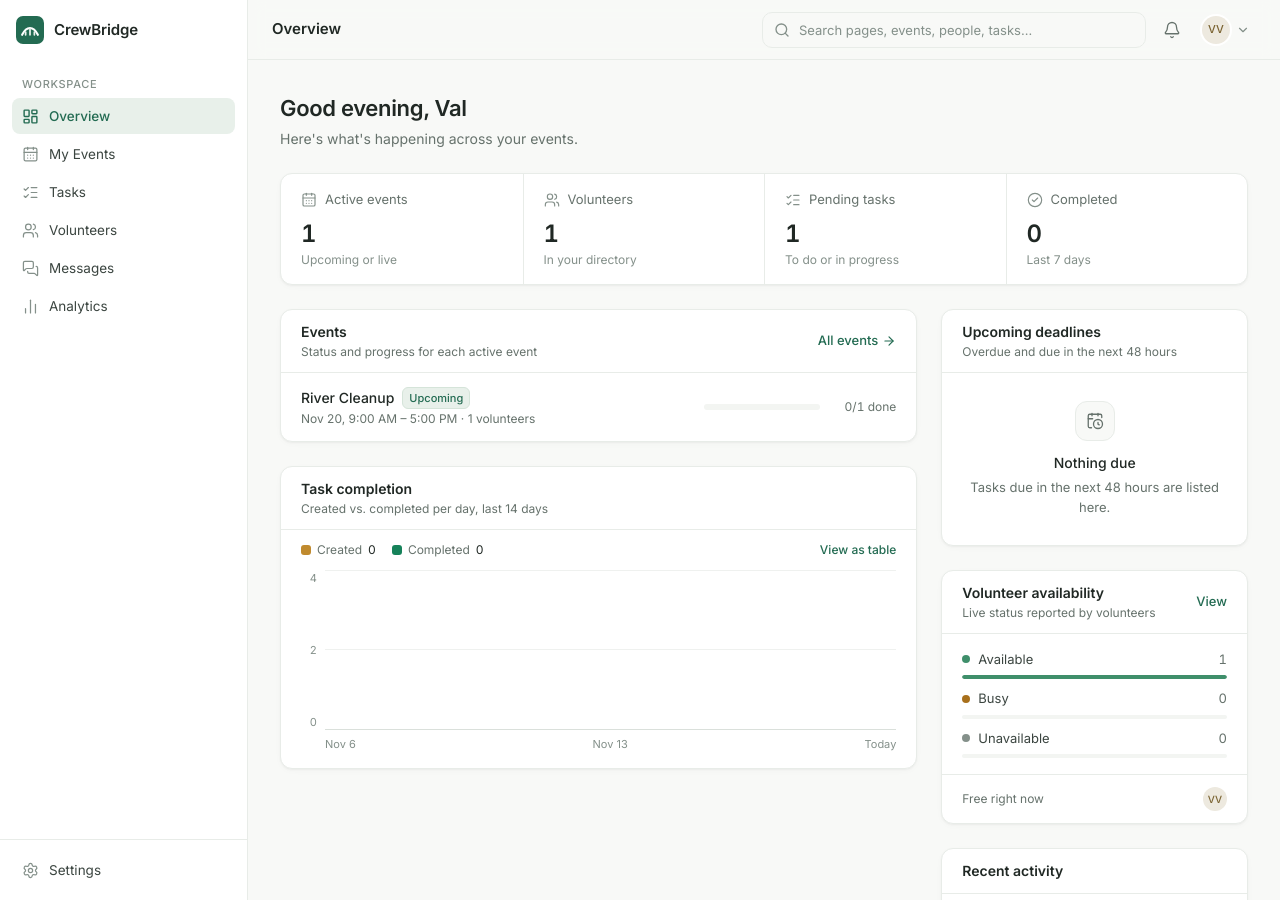
Test: live workspace › signs out through the API and returns to sign in
Later steps or results of the test are not shown.
Click the button with aria-label "Account menu": coordinates (1227, 30) [1198,12,1256,48]
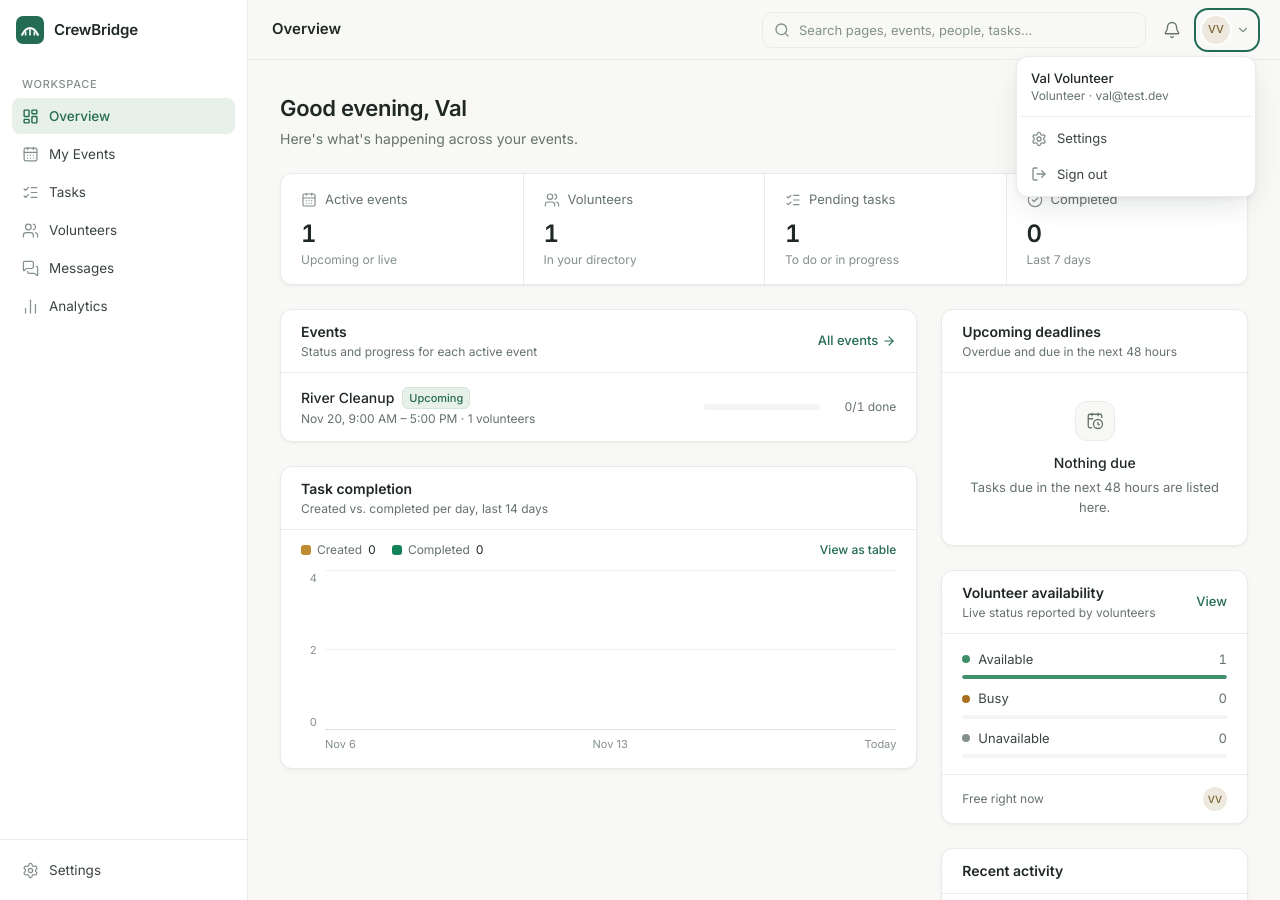
Check: the text "Volunteer · val@test.dev" is shown, box [1031,88,1169,103]
